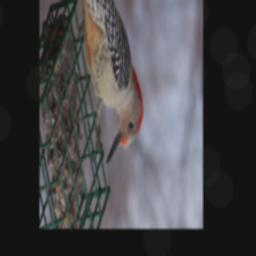Woodpecker: (72, 0, 144, 163)
